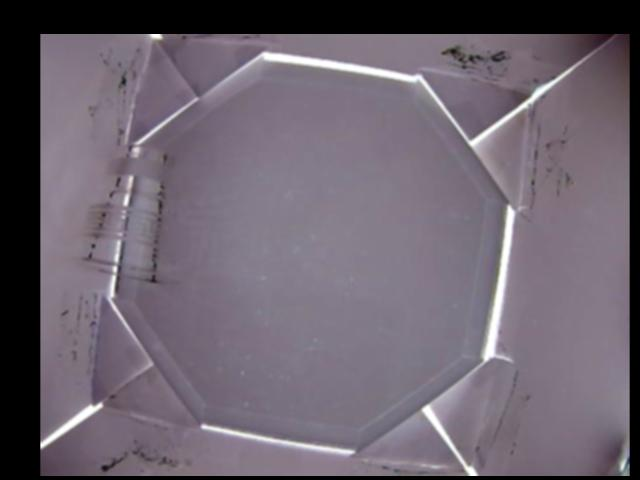Cup: (76, 144, 183, 288)
